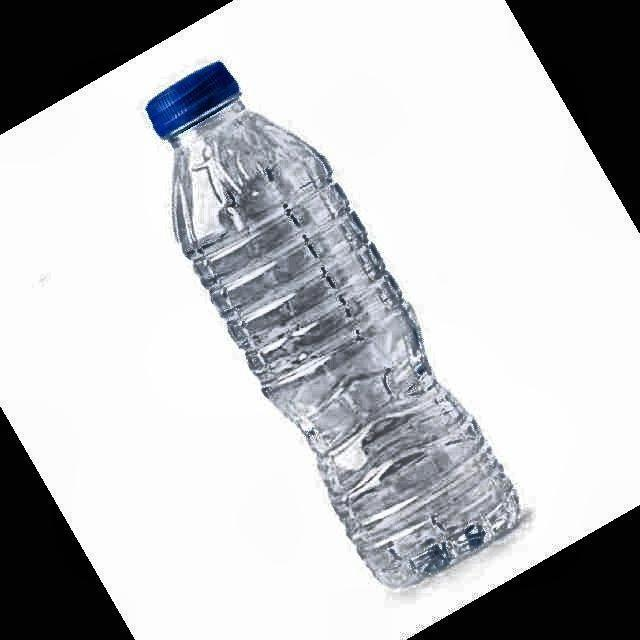plastic: (146, 62, 519, 586)
